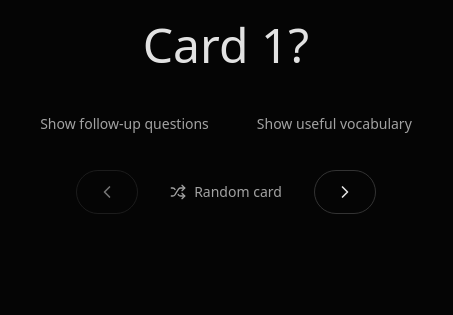
Test: PromptCardsPlayer › reveals follow-ups and vocabulary separately
What coordinates should you click on to do the following:
click the button "Show follow-up questions"
I would click on:
 (125, 124)
Its box is [20,102,229,146].
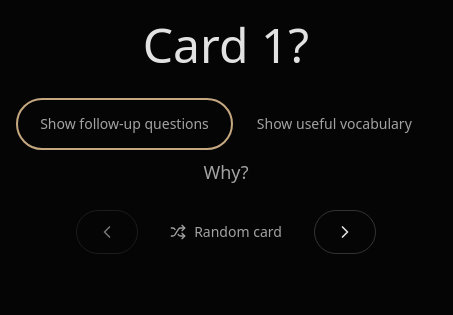
Expected: the text "because" is not shown
Expected: the list item "Why?" is shown, [203,158,249,186]
What coordinates should you click on to do the following:
click the button "Show useful vocabulary"
I would click on:
 (334, 124)
Its box is [237,102,432,146].
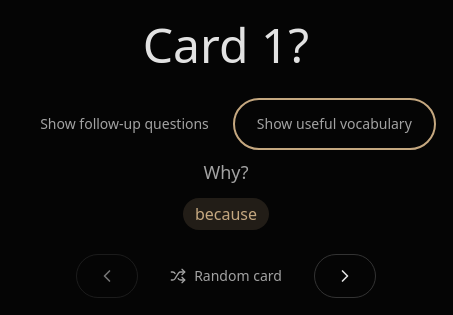
Expected: the list item "because" is shown, [183,198,269,230]
